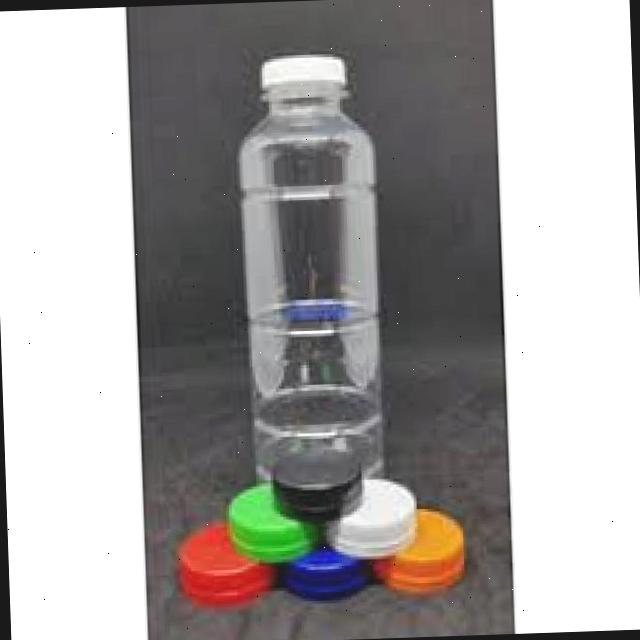bottle: (180, 40, 430, 480)
